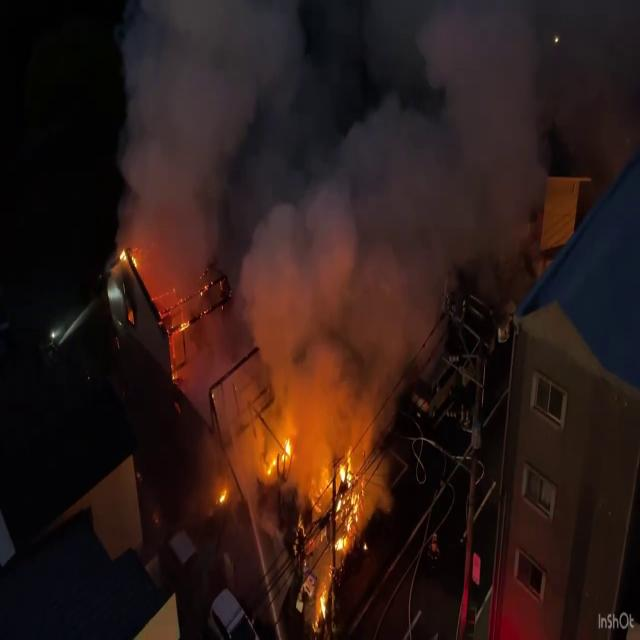Fire: (312, 439, 366, 631), (262, 427, 294, 477)
Smoke: (107, 0, 568, 421)
